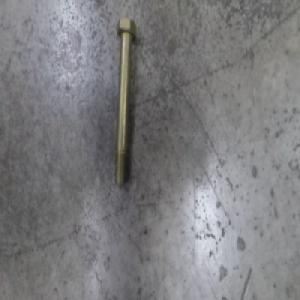Bolt: (113, 15, 137, 188)
